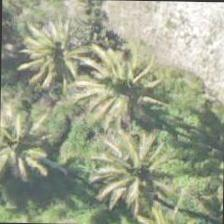Kelapa_Sawit: (8, 14, 100, 106), (76, 36, 168, 128), (86, 126, 178, 218), (0, 90, 59, 182)
